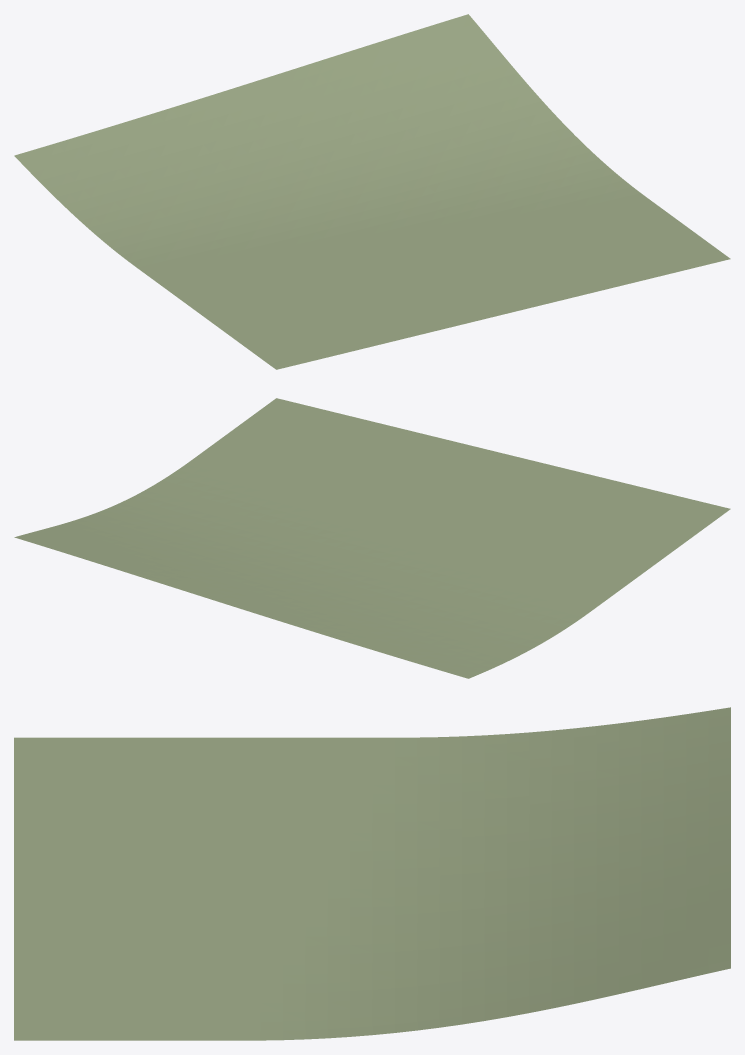
File: valley-10-7.glb
3 renders of one model, top to bottom at view 1: azimuth 30°, elevation 25°; view 2: azimuth 150°, elevation 25°; view 3: azimuth 270°, elevation 25°, orthographic. The views are drawn at different scales.
Visible parts, largest first — view 1: valley-10-7; view 2: valley-10-7; view 3: valley-10-7.
Boxes of the visible parts, x1,y1,x2,y2 form: valley-10-7: (14,14,730,369); valley-10-7: (14,398,730,678); valley-10-7: (14,707,730,1040).
Bounding box in the file's own units: 256 × 28.43 × 256.
